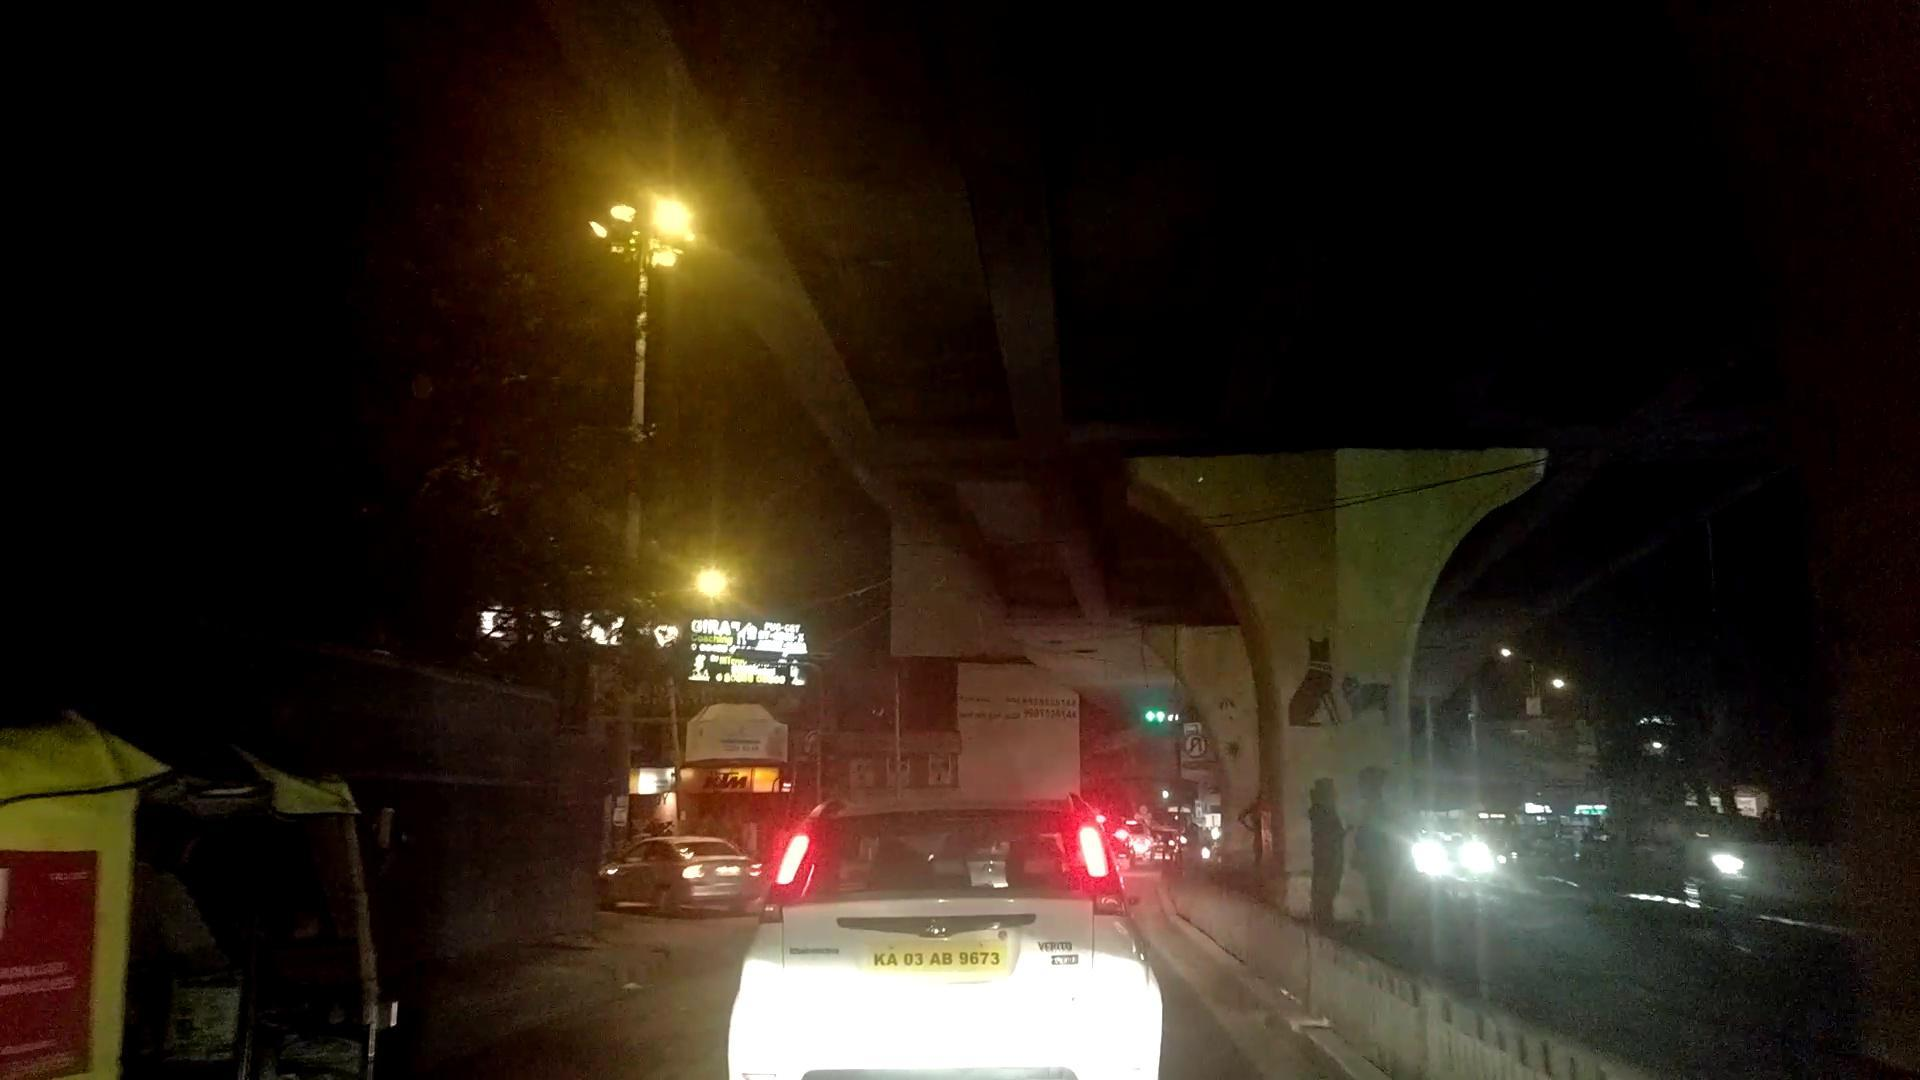on: (280, 0, 927, 483)
